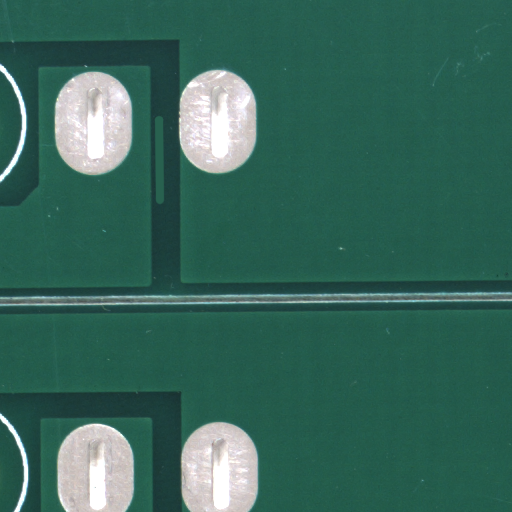Spurious_copper: (159, 160, 174, 250)
